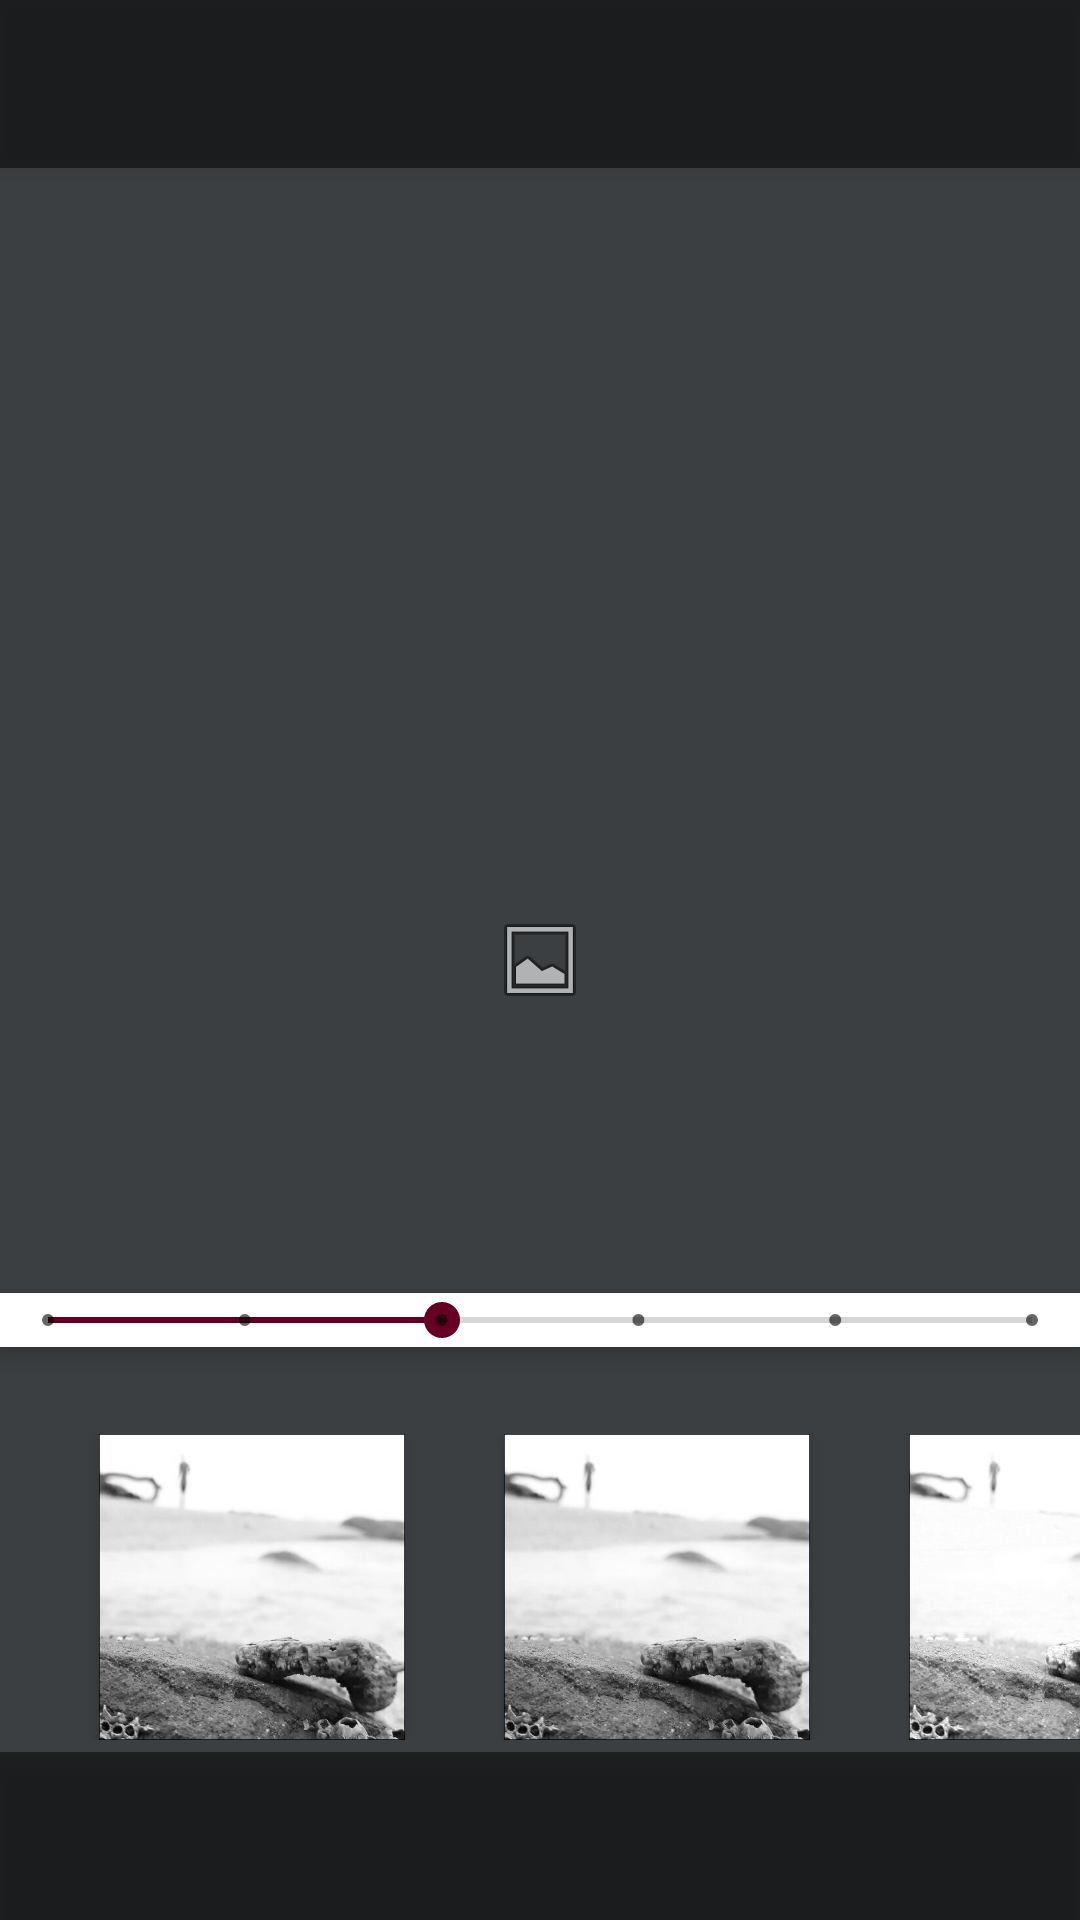

Icons on this 1080 × 1920 Android screen, each with the point to tap as (x=x, y=y):
gallery: (x=540, y=960)
